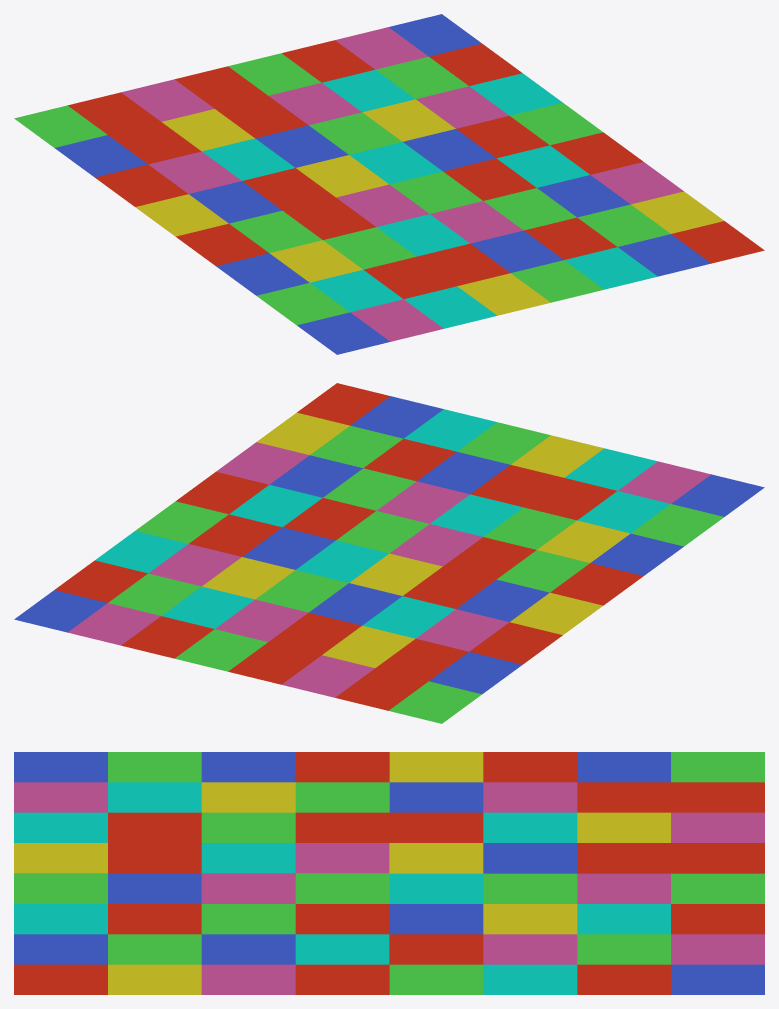
The model's file is teppich.fbx.
3 views of the same model, one above another, from view 1: azimuth 30°, elevation 25°; view 2: azimuth 150°, elevation 25°; view 3: azimuth 270°, elevation 25° (orthographic). The views are drawn at different scales.
Parts seen in each view (by area): view 1: Plane; view 2: Plane; view 3: Plane.
Boxes of the visible parts, bbox=[...] form: Plane: bbox=[14, 14, 764, 354]; Plane: bbox=[14, 383, 764, 723]; Plane: bbox=[14, 752, 764, 994].
Bounding box in the file's own units: 130 × 2.77e-05 × 170.
